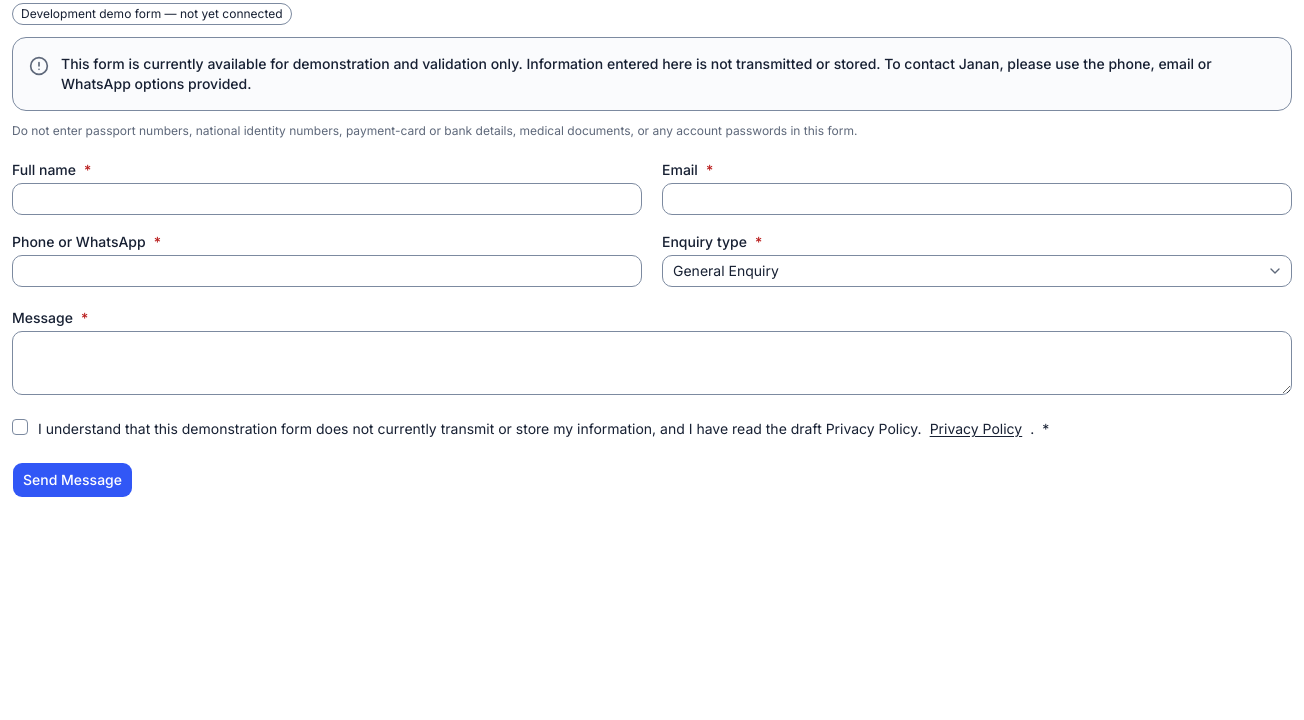
Scenario: ContactForm › does not make any network request on submission
Type "Jordan Smith" into the field labelled "Full name *" at [327, 199], box [12, 183, 642, 215]
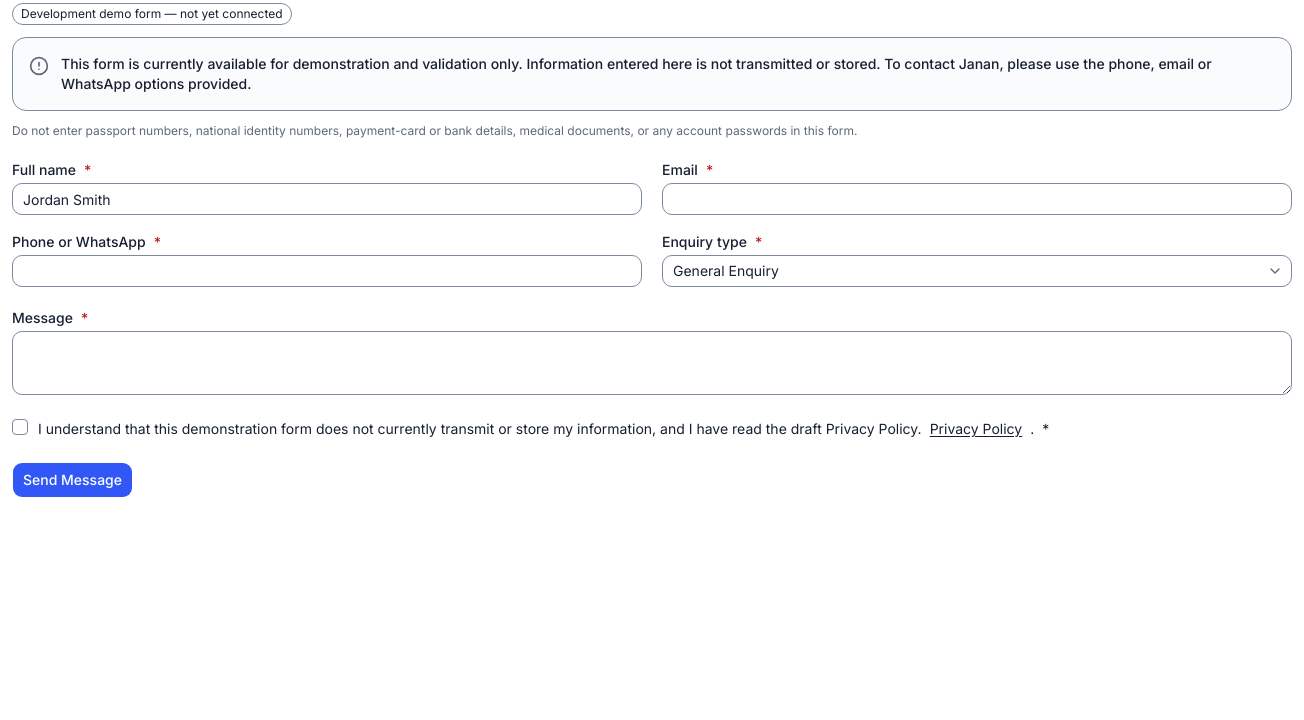
Type "jordan@example.com" into the field labelled "Email *" at [977, 199], box [662, 183, 1292, 215]
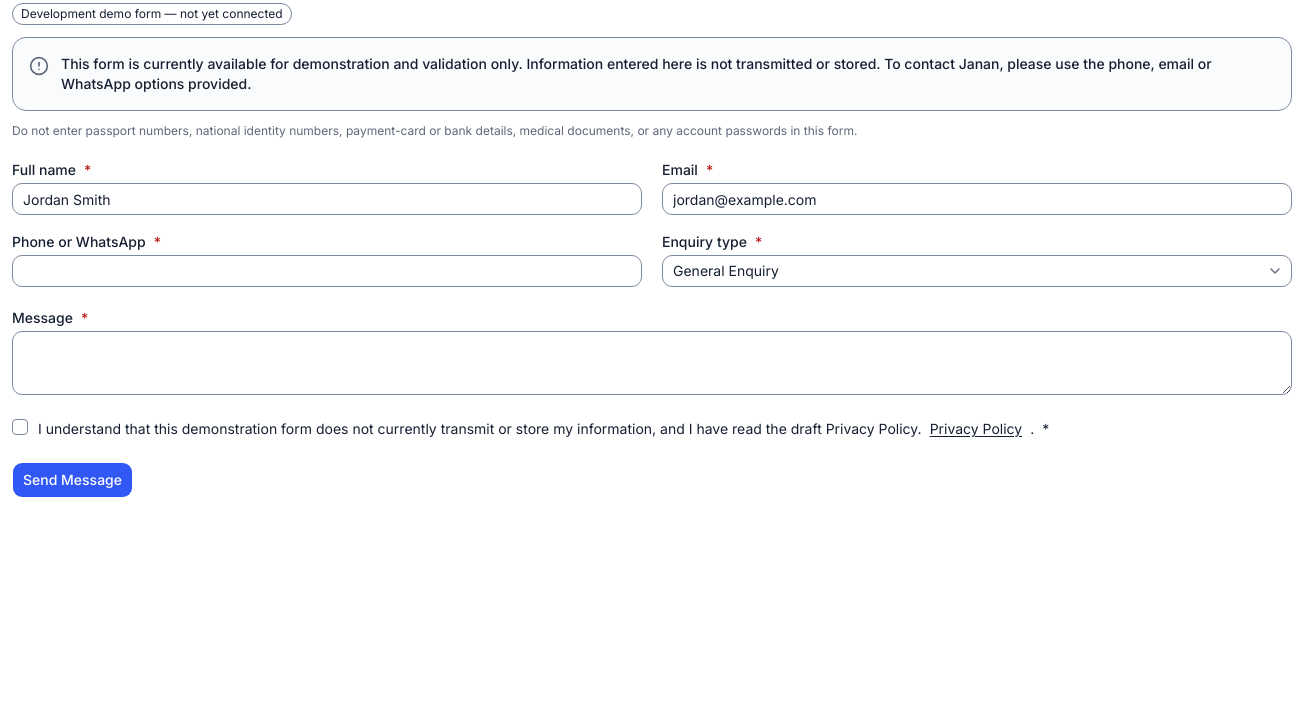
Type "+92 300 1234567" into the field labelled "Phone or WhatsApp *" at [327, 271], box [12, 255, 642, 287]
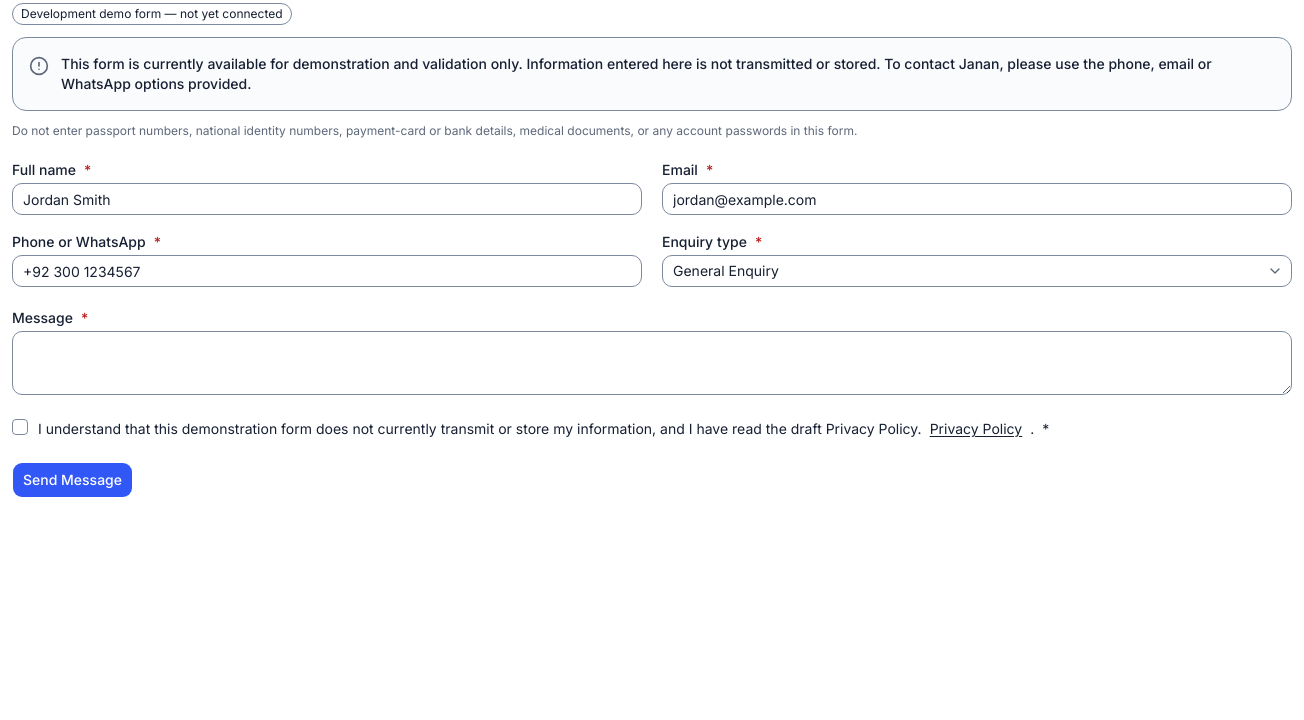
Type "I would like guidance on studying in the UK." into the text box labelled "Message *" at [652, 363], box [12, 331, 1292, 395]
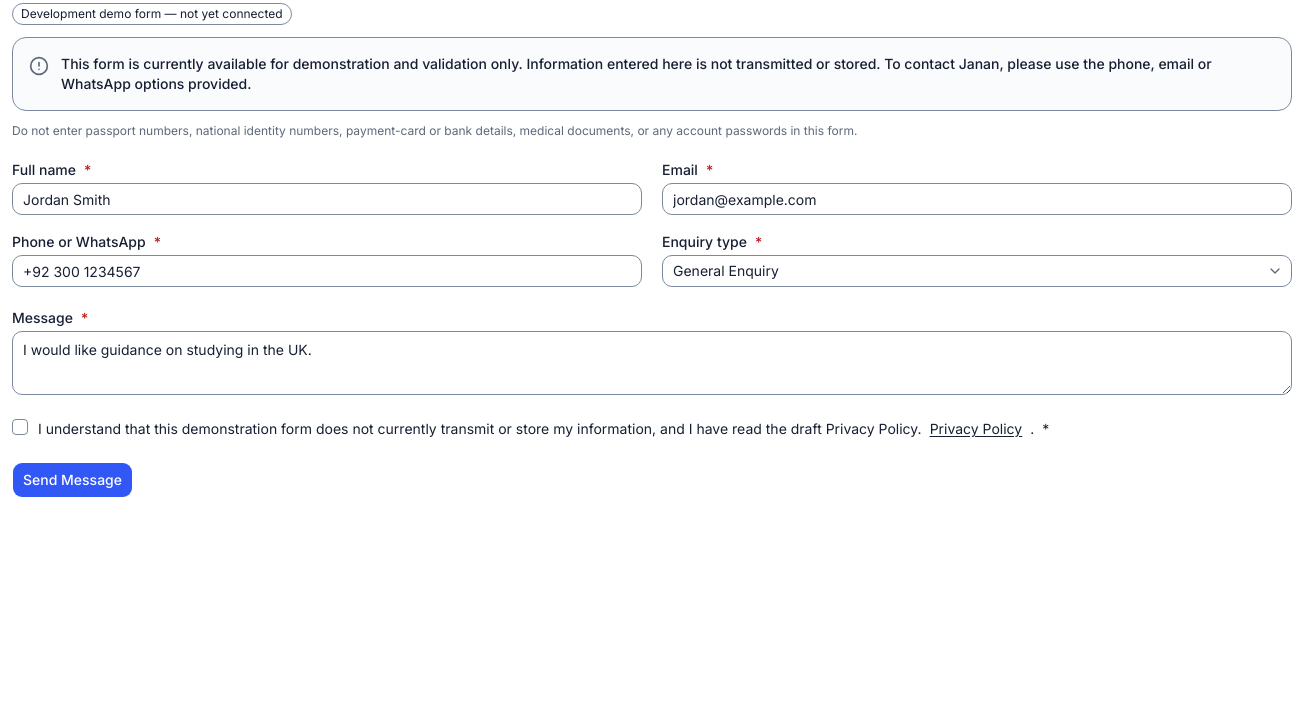
Click the checkbox at [20, 427], box [12, 419, 28, 435]
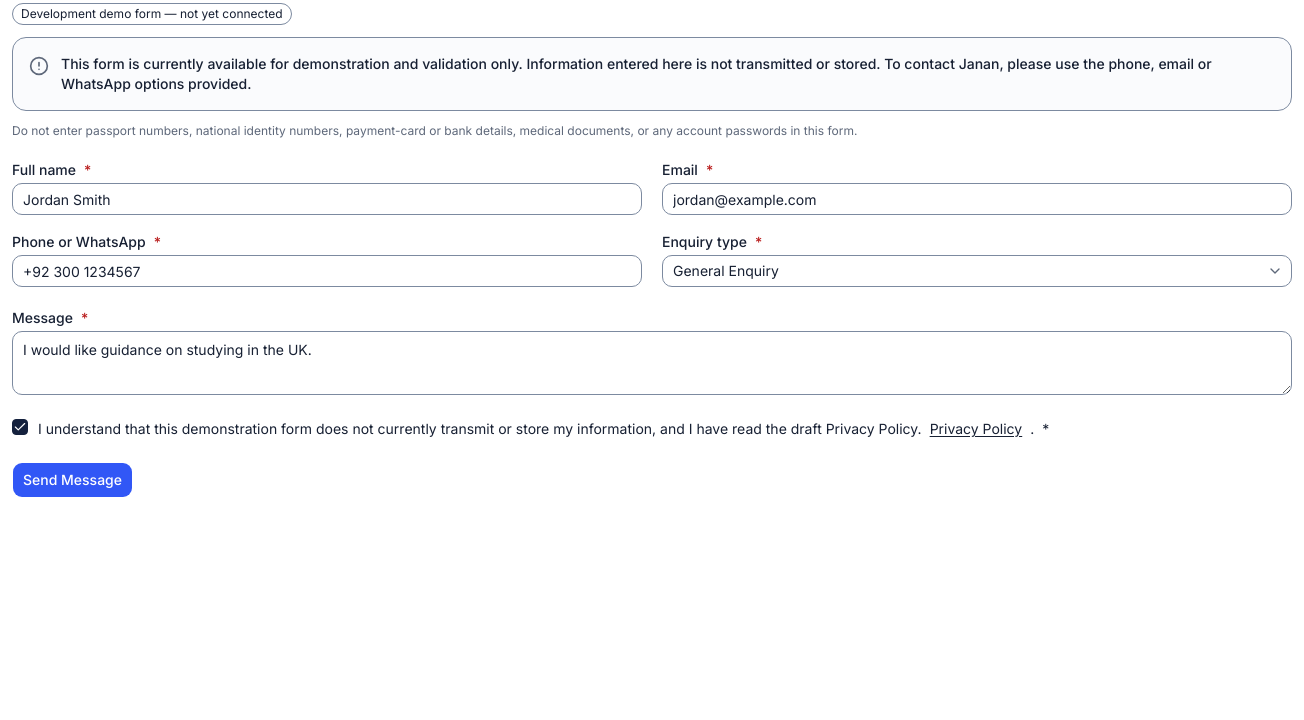
Click the button "Send Message" at [72, 480], box [12, 462, 133, 498]
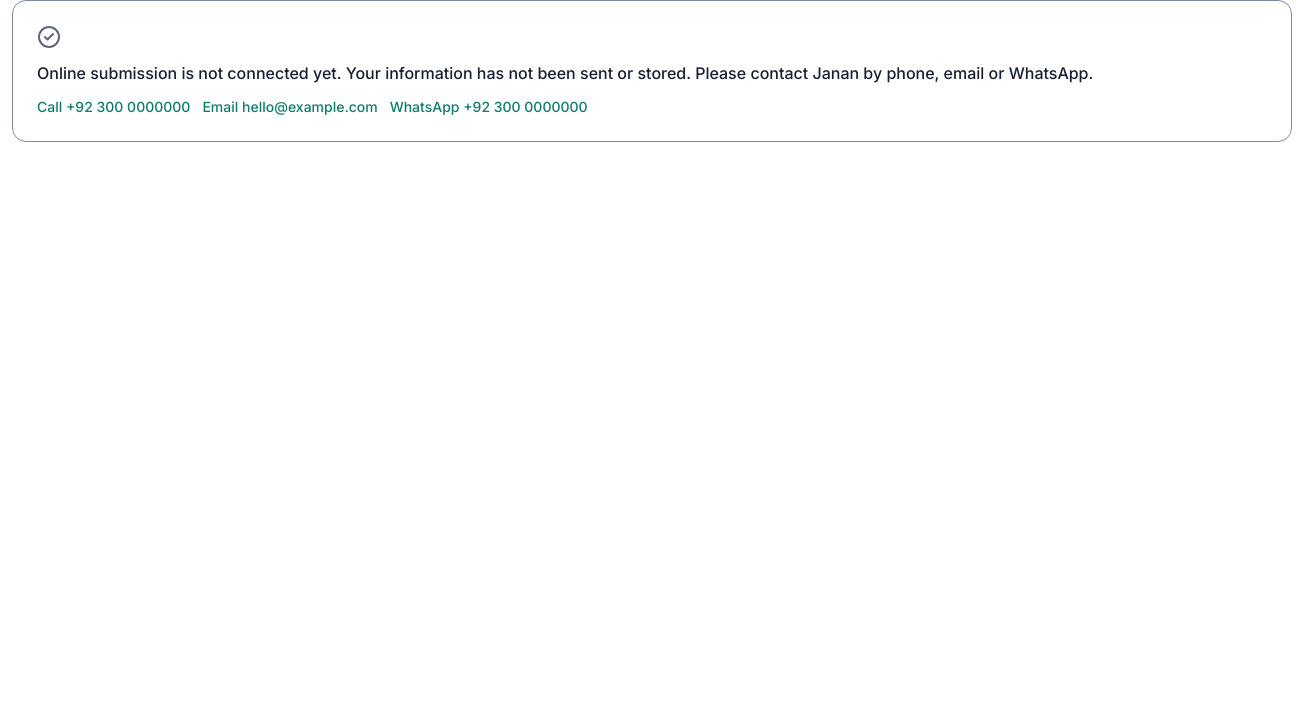
Now the text "Online submission is not connected yet" is shown, box [37, 63, 1093, 83]
